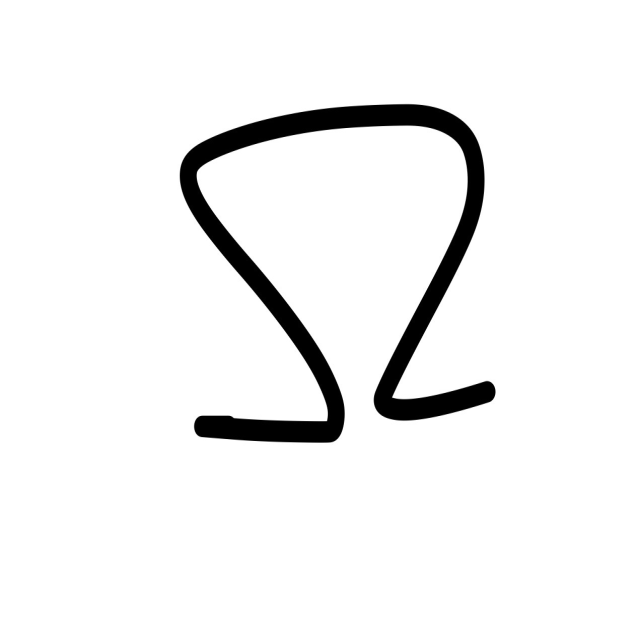ohms: (63, 92, 582, 499)
